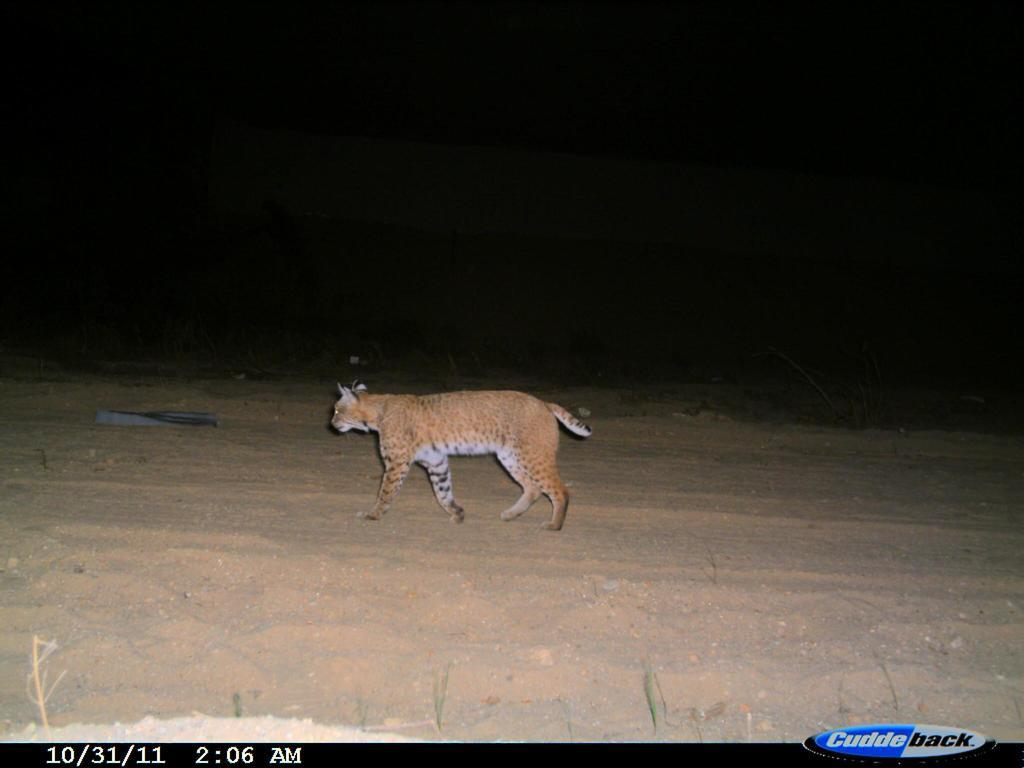bobcat: (333, 382, 602, 556)
